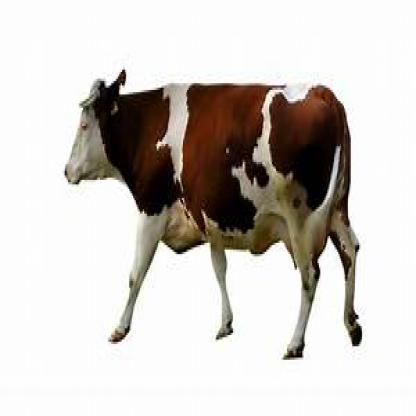cow: (60, 60, 360, 358)
